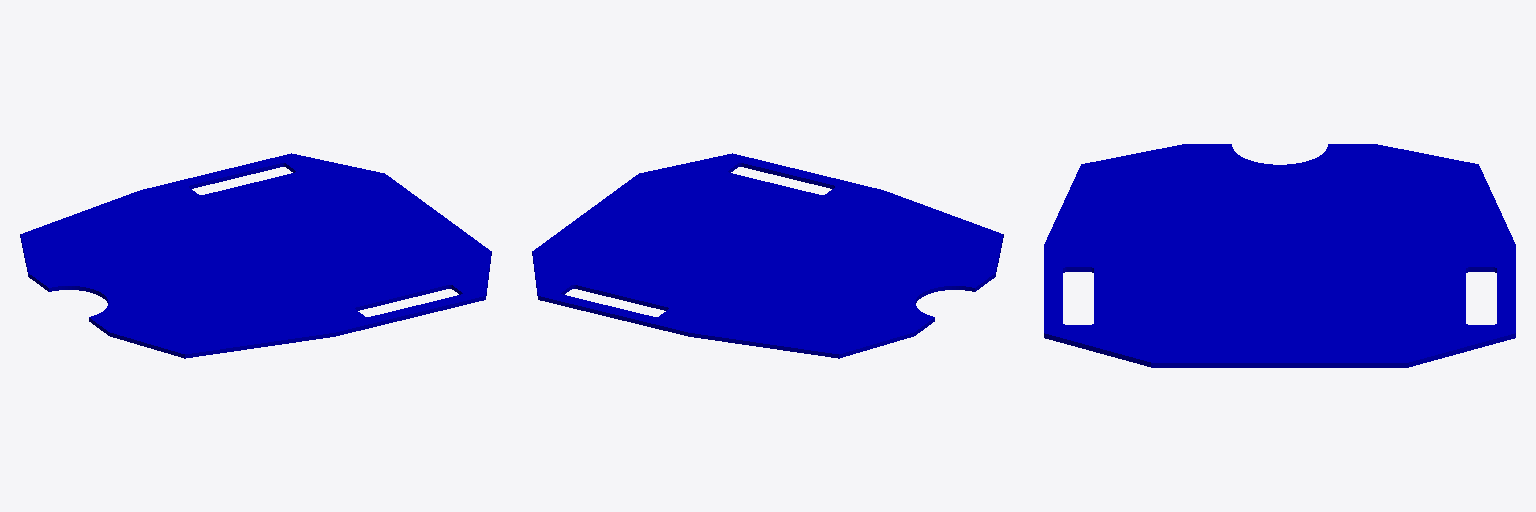
robot.urdf — romaa:
<?xml version='1.0'?>
<robot name="romaa">

  <material name="blue">
    <color rgba="0 0 0.8 1" />
  </material>
  <gazebo reference="base_link">
    <material>Gazebo/Blue</material>
  </gazebo>

  <!-- Base Link (bottom) -->
  <link name="base_link">
    <visual>
      <origin xyz="0 0 0" rpy="0 0 0" />
      <geometry>
        <mesh filename="package://romaa_description/meshes/romaa_bottom.stl" />
      </geometry>
      <material name="blue" />
    </visual>

    <inertial>
      <origin xyz="-0.1008466132361  0.0 0.003" rpy="0 0 0" />
      <mass value="4.03317563367091"/>
      <inertia ixx="0.0729296621571746" ixy="0" ixz="0"
        iyy="0.0944958177861172" iyz="0" izz="0.16740128088949"/>
    </inertial>

    <collision name="collision_base_link">
      <origin xyz="-0.111 0 0.003" rpy="0 0 0" />
      <geometry>
        <box size="0.57 0.52 0.006"/>
      </geometry>
    </collision>
  </link>

</robot>

--- Facts derived from the render (not from the file) ---
The picture shows the robot from 3 angles, left to right: view 1: azimuth 30°, elevation 25°; view 2: azimuth 150°, elevation 25°; view 3: azimuth 270°, elevation 25°; orthographic projection.
Robot: romaa — 1 links, 0 joints (none); root link base_link; default pose: every joint at zero.
Links seen in each view (by area): view 1: base_link; view 2: base_link; view 3: base_link.
Link boxes in pixels (x1,y1,x2,y2): base_link: (20,153,491,358); base_link: (532,153,1003,358); base_link: (1044,144,1515,367).
Bounding box of the posed robot: 0.57 × 0.52 × 0.006 m (x, y, z).
1 mesh visuals loaded from 1 distinct referenced files (1 binary STL).
